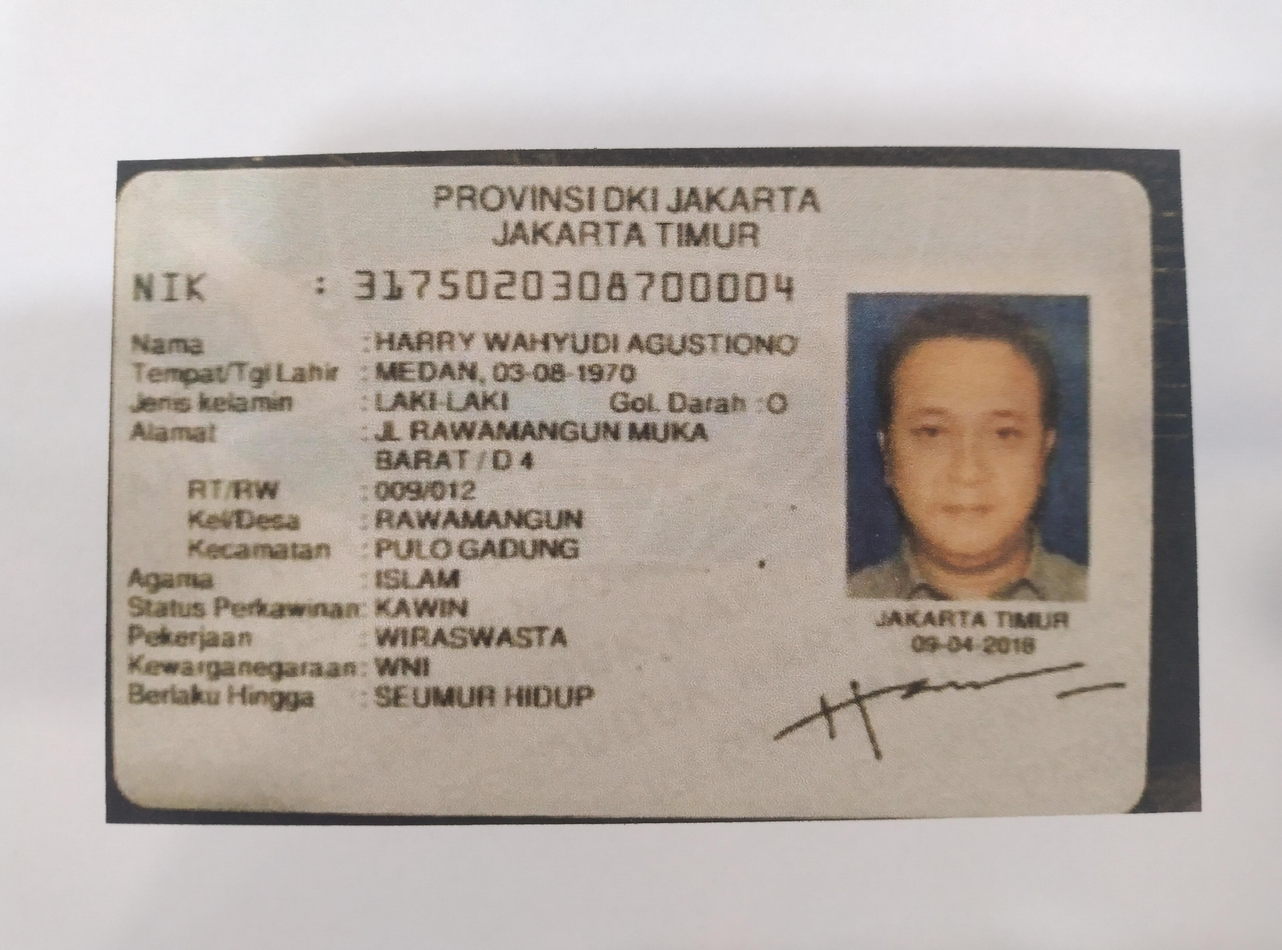ID-card: (120, 167, 1137, 797)
